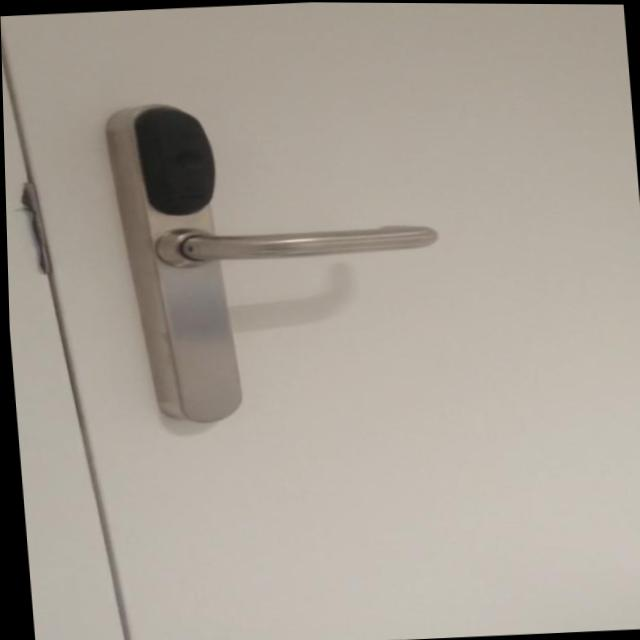door_handle: (108, 209, 446, 277)
